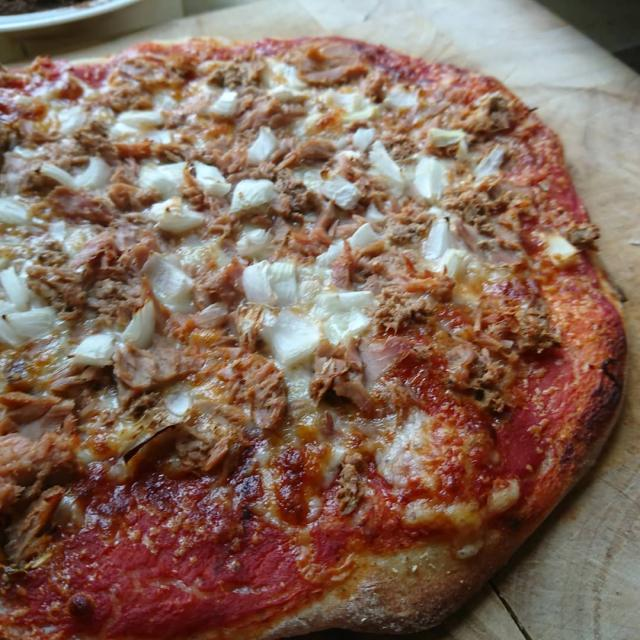pizza: (0, 34, 634, 640)
